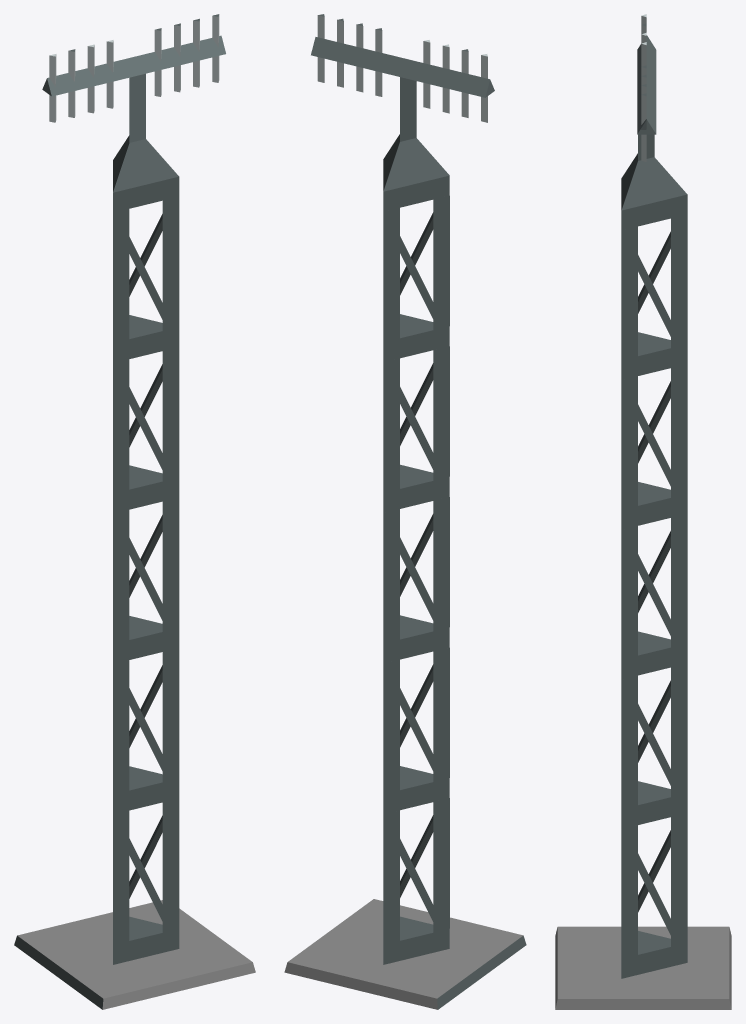
The model's file is antenna3.gltf.
3 renders of one model, left to right at view 1: azimuth 30°, elevation 25°; view 2: azimuth 150°, elevation 25°; view 3: azimuth 270°, elevation 25°, orthographic.
Visible parts, largest first — view 1: base (×4), concrete, riser3, crossbeam, top; view 2: base (×4), concrete, riser3, crossbeam, top; view 3: base (×4), concrete, riser3, top, crossbeam.
Part boxes in pixels (<box>): base (×4): <box>113,197,179,814</box>; concrete: <box>14,900,255,1009</box>; riser3: <box>113,798,179,964</box>; crossbeam: <box>42,14,225,122</box>; top: <box>113,73,179,212</box>; base (×4): <box>383,195,449,814</box>; concrete: <box>284,899,526,1009</box>; riser3: <box>383,798,449,964</box>; crossbeam: <box>311,14,494,122</box>; top: <box>383,77,449,211</box>; base (×4): <box>621,214,687,828</box>; concrete: <box>555,926,731,1009</box>; riser3: <box>621,813,687,978</box>; top: <box>621,134,687,230</box>; crossbeam: <box>637,14,656,161</box>.
Bounding box in the file's own units: 1.14 × 5.75 × 1.
3 materials, 3 textured.
